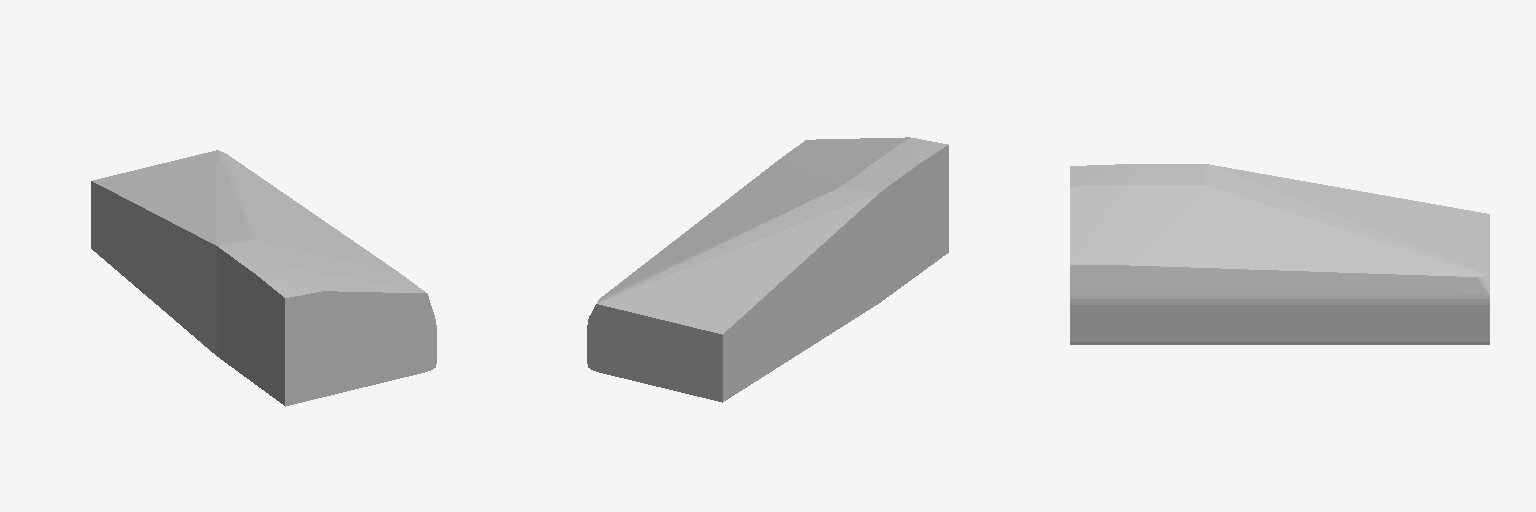
File: Toaster_24_collision_15.obj
3 renders of one model, left to right at view 1: azimuth 30°, elevation 25°; view 2: azimuth 150°, elevation 25°; view 3: azimuth 270°, elevation 25°, orthographic.
Size of the model in its own units: 0.0916 by 0.0639 by 0.2205.